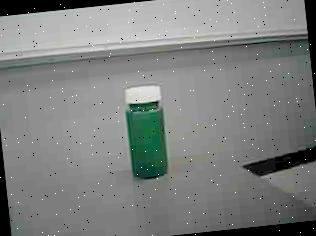Bottle C: (106, 77, 185, 189)
